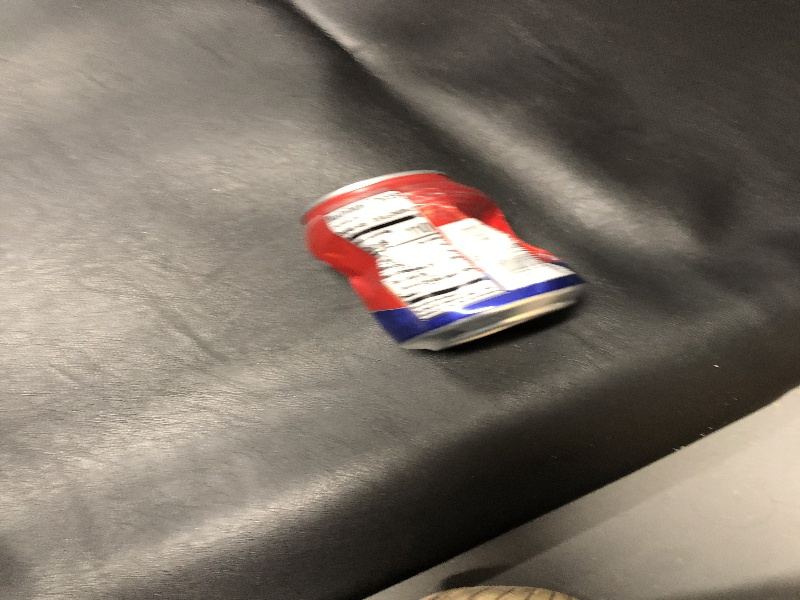metal: (296, 164, 597, 357)
